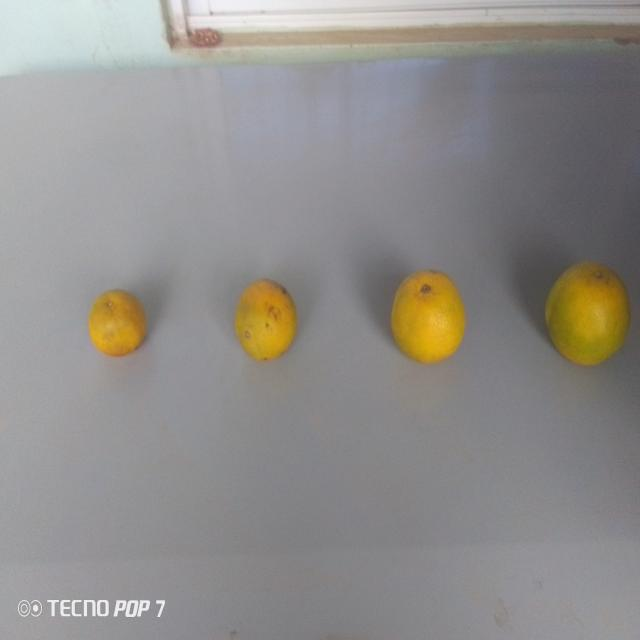Ripe orange: (545, 252, 632, 376), (384, 263, 476, 376), (227, 271, 302, 370), (87, 280, 153, 361)
